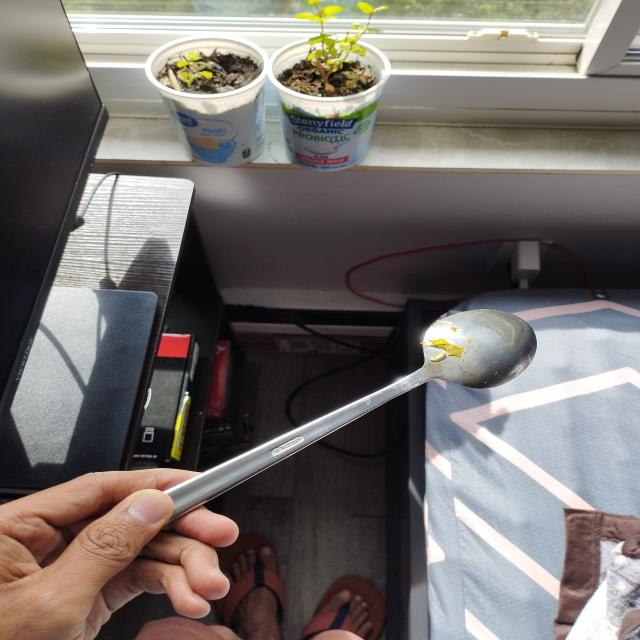Spoon: (126, 311, 564, 533)
